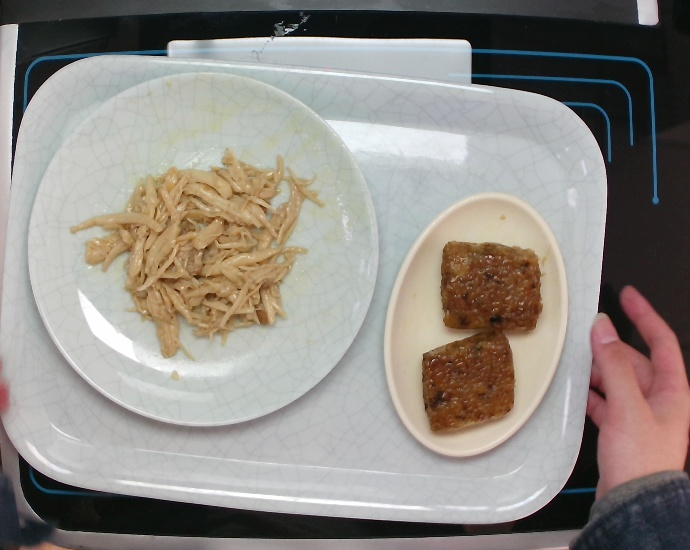JYsf-Da_Yuan_Pan: (23, 69, 380, 429)
JYsf-Tuo_Yuan_Wan: (382, 191, 571, 461)
